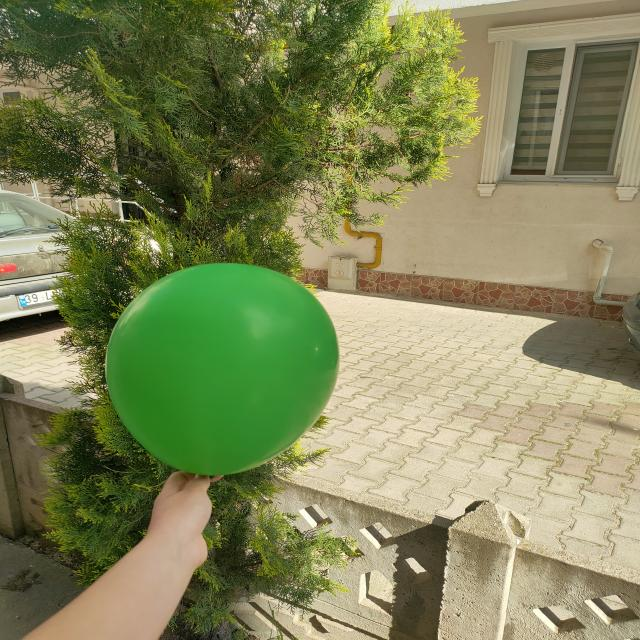green: (106, 264, 339, 479)
